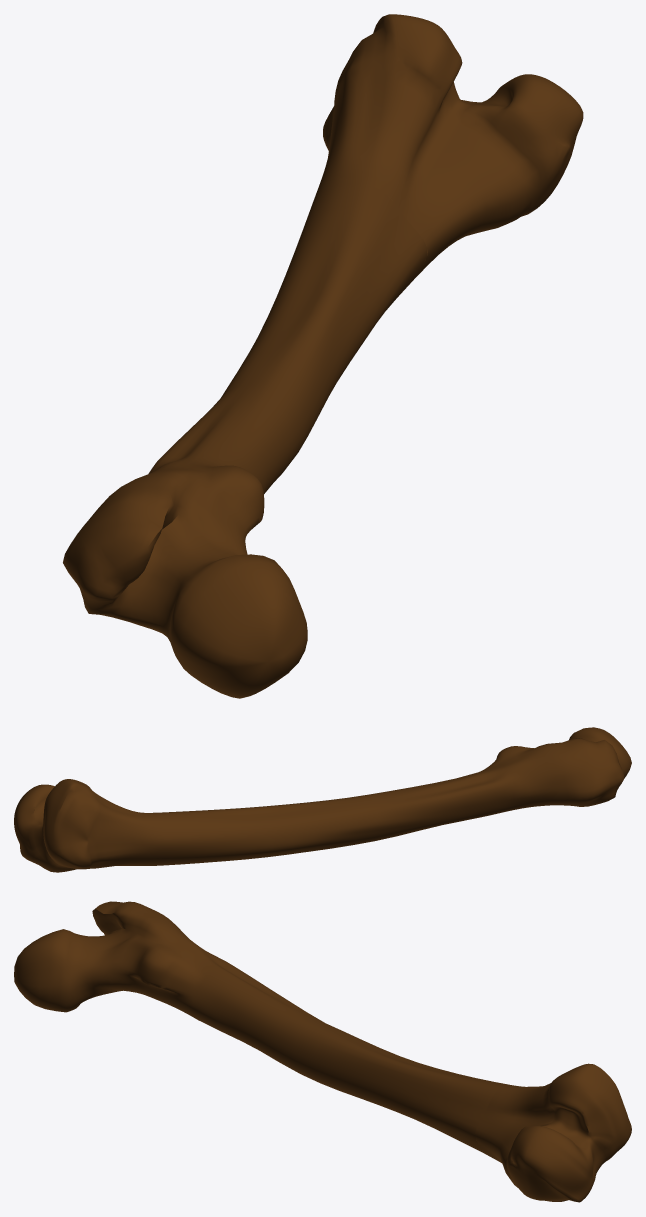
The model's file is Bone.FBX.
3 views of the same model, one above another, from view 1: azimuth 30°, elevation 25°; view 2: azimuth 150°, elevation 25°; view 3: azimuth 270°, elevation 25° (orthographic). The views are drawn at different scales.
Parts seen in each view (by area): view 1: FEMUR; view 2: FEMUR; view 3: FEMUR.
Part boxes in pixels (x1=…): FEMUR: x1=63, y1=14, x2=583, y2=698; FEMUR: x1=14, y1=727, x2=631, y2=872; FEMUR: x1=14, y1=901, x2=631, y2=1202.
Bounding box in the file's own units: 38.94 × 8.75 × 40.98.
